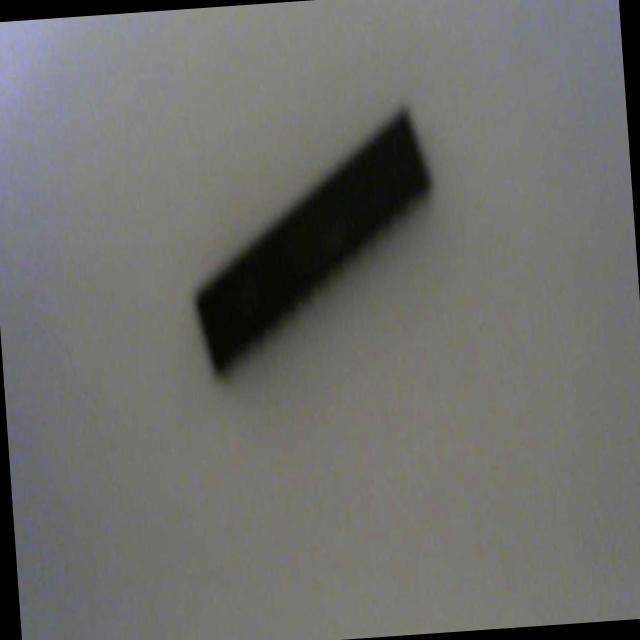atmega: (178, 99, 447, 384)
